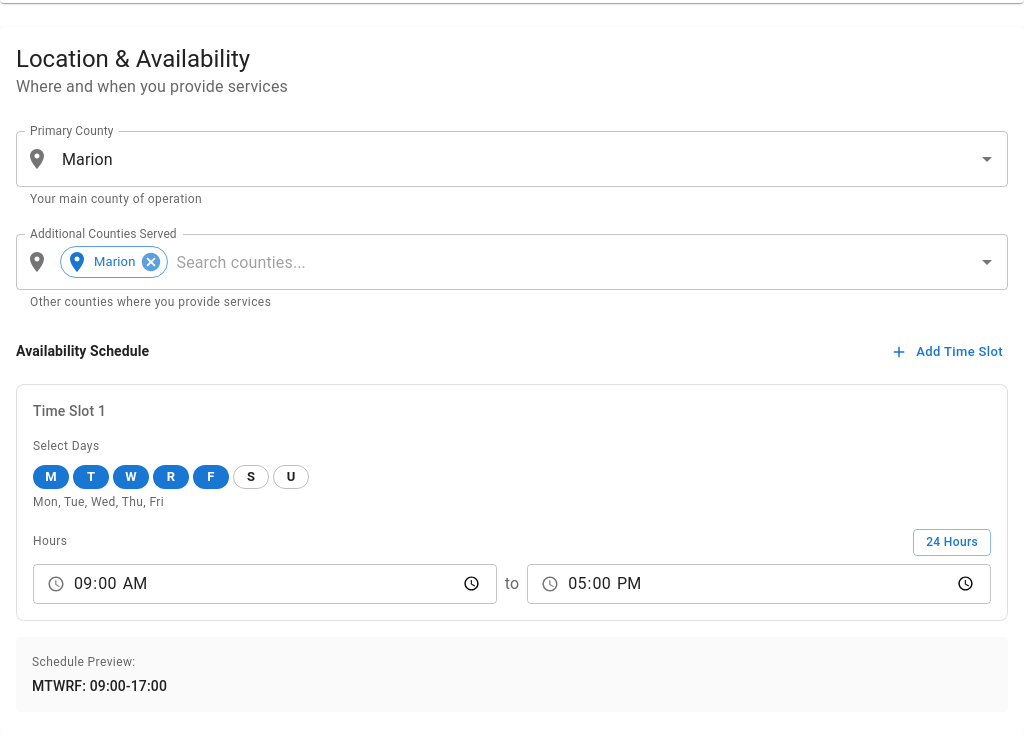
Test: Edit Agency Page - BVA Tests › Time Slot Boundaries › removing time slot decreases slot count
(page scrolled)
Click the button "Add Time Slot": click(948, 352) x1=887 y1=337 x2=1008 y2=368
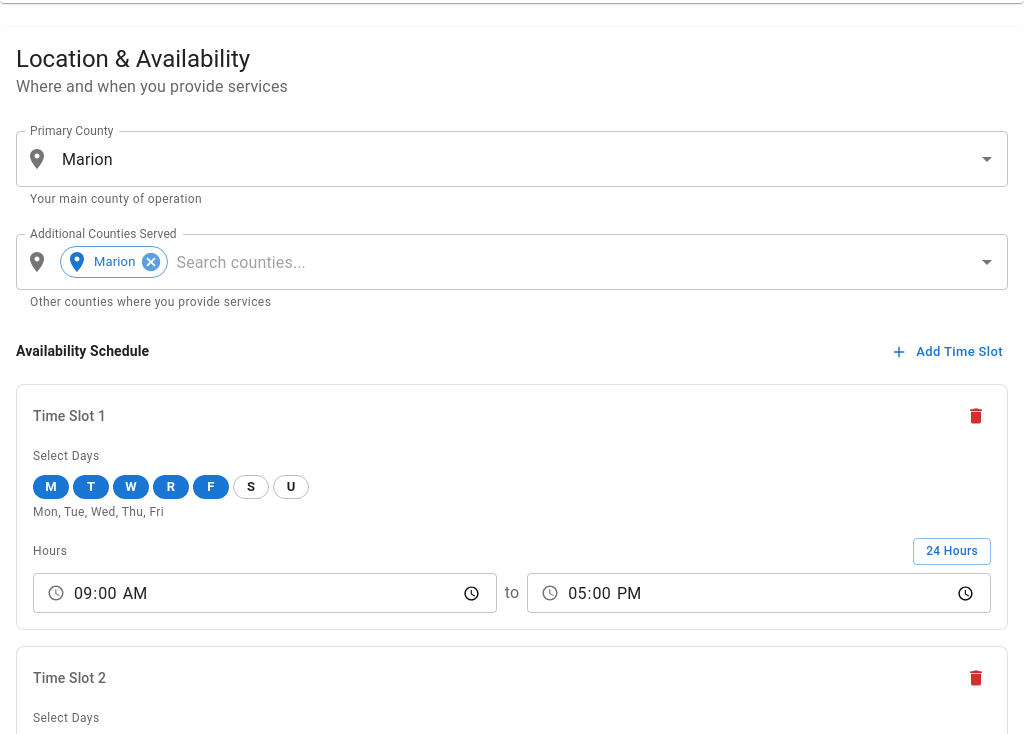
Click the button "Add Time Slot": click(948, 352) x1=887 y1=337 x2=1008 y2=368
(page scrolled)
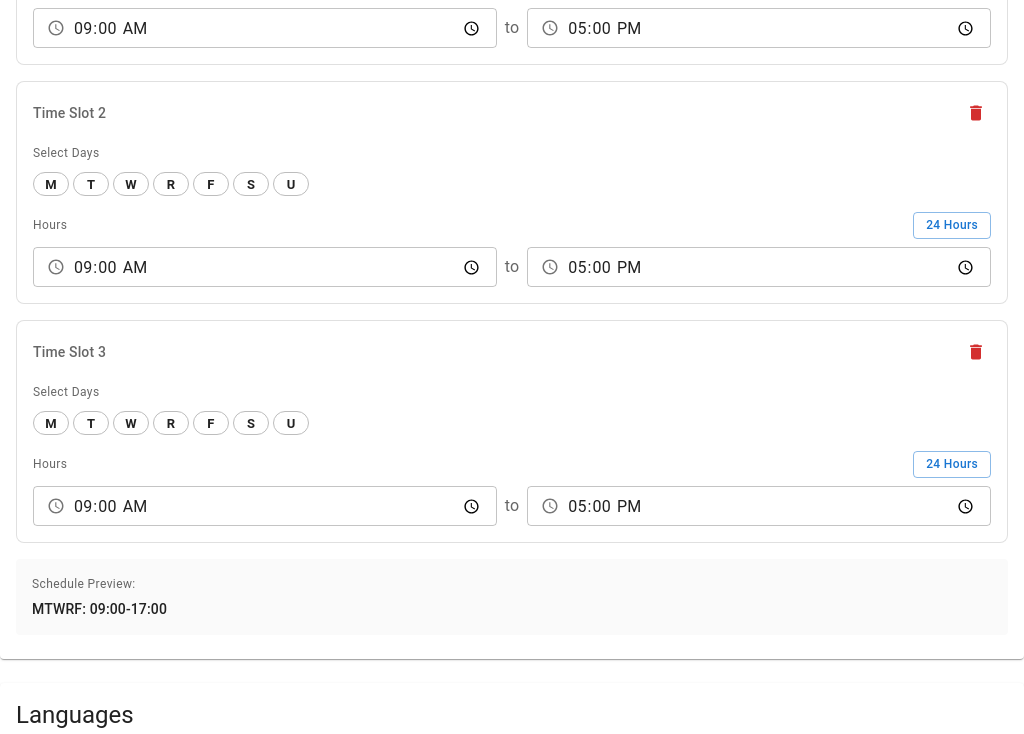
Now the text "Time Slot 3" is shown, box x1=33 y1=342 x2=106 y2=362
Click the button with test id "DeleteIcon": click(976, 352) x1=961 y1=337 x2=991 y2=367
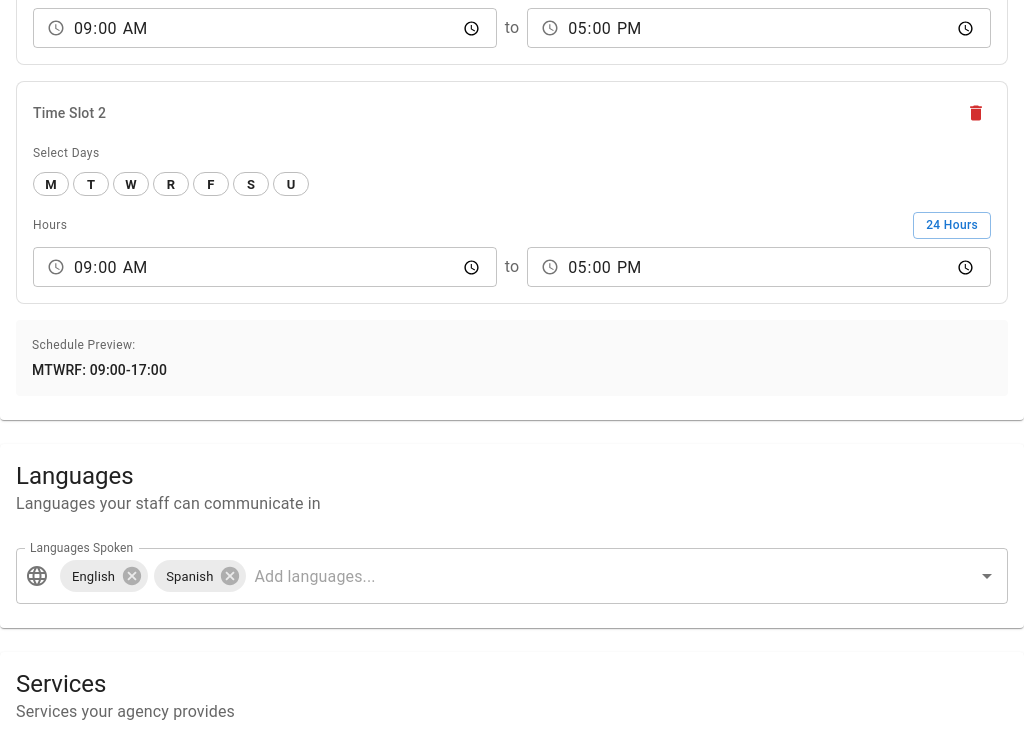
Now the text "Time Slot 3" is gone
